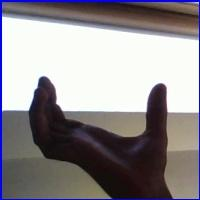space: (16, 70, 184, 192)
